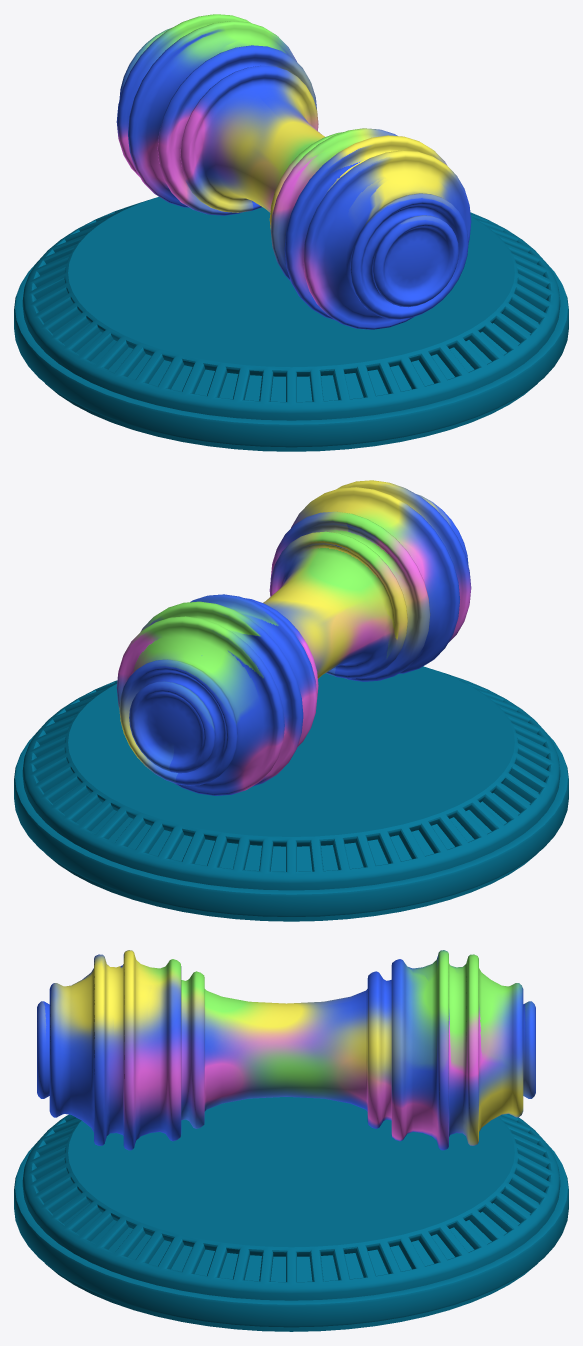
Rendered from ГАНТЕЛЬ каучуковая РИФЛЕНАЯ.glb.
3 views of the same model, one above another, from view 1: azimuth 30°, elevation 25°; view 2: azimuth 150°, elevation 25°; view 3: azimuth 270°, elevation 25° (orthographic).
Visible parts, largest first — view 1: Cube.001, Sphere; view 2: Cube.001, Sphere; view 3: Cube.001, Sphere.
Part boxes in pixels (left/top/right/bottom): Cube.001: left=14, top=197, right=568, bottom=451; Sphere: left=116, top=14, right=471, bottom=329; Cube.001: left=14, top=666, right=568, bottom=921; Sphere: left=116, top=480, right=471, bottom=795; Cube.001: left=14, top=1097, right=568, bottom=1331; Sphere: left=37, top=950, right=535, bottom=1150.
Bounding box in the file's own units: 2.1 × 1.08 × 2.1.
Materials: 2 (1 with a texture image).
